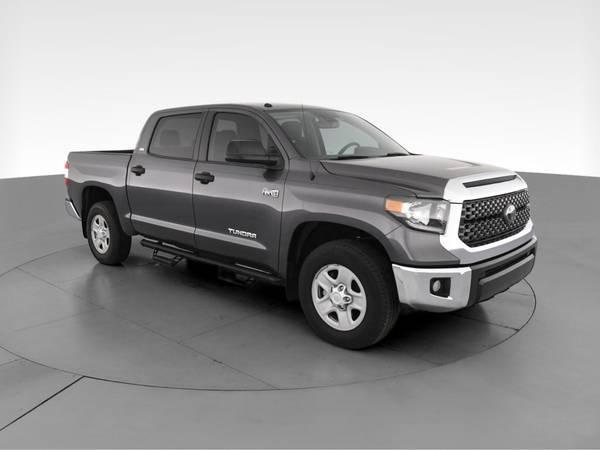Front_Bumper: (379, 227, 539, 312)
Front_Fender: (277, 156, 416, 276)
Front_Right_Door: (193, 160, 286, 272)
Front_Right_Window: (202, 111, 296, 172)
Front_Windshield: (270, 113, 413, 162)
Grille: (441, 191, 534, 262)
Hood: (323, 150, 530, 202)
Rear_Fender: (64, 150, 133, 233)
Rear_Right_Door: (126, 154, 199, 251)
Rear_Right_Window: (150, 111, 212, 158)
Right_Headlight: (385, 197, 453, 236)
Roof: (133, 102, 349, 156)
Wheel: (295, 240, 399, 349), (85, 203, 133, 268)
